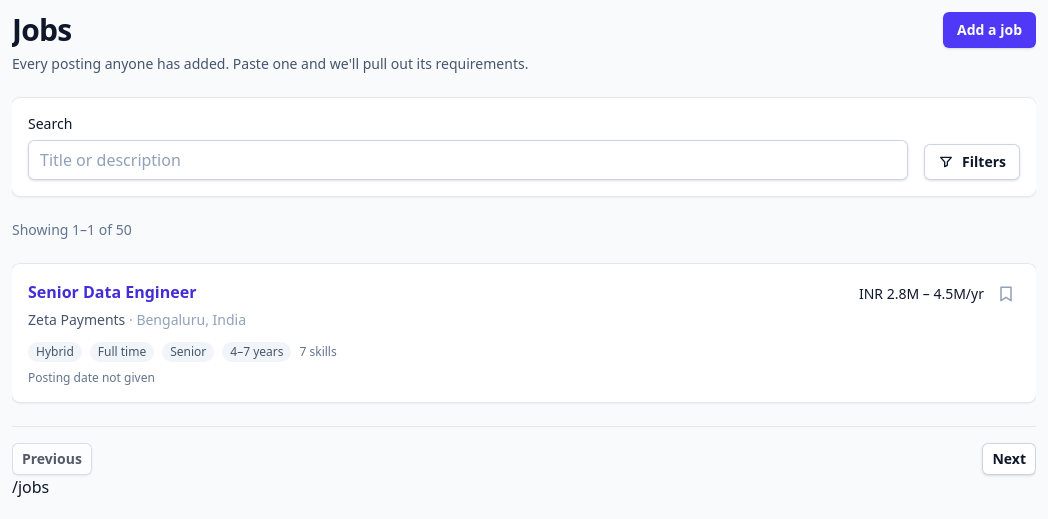
Test case: JobsPage › the filters collapse behind a button › hides the results while the filters are open
The image size is (1048, 519).
Expected: the list item is shown, [12,264,1036,402]
Click the button "Filters" at (972,162), box [924,144,1020,180]
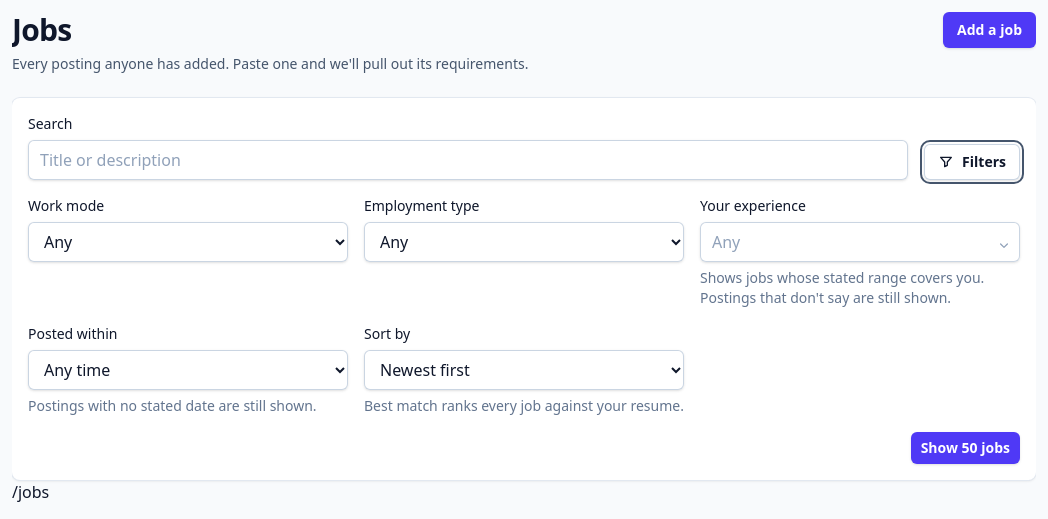
Expected: the list item is gone
Expected: the text "Showing " is gone
Expected: the button "Next" is gone
